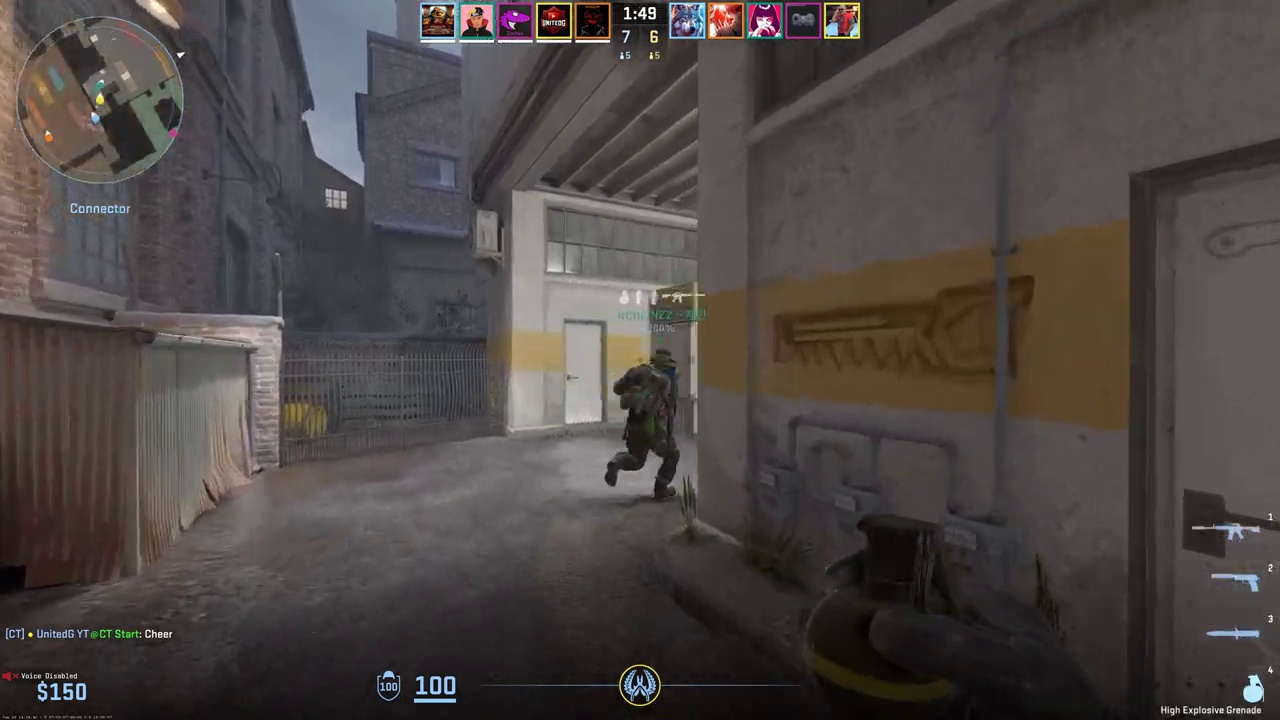CT: (614, 349, 682, 500)
